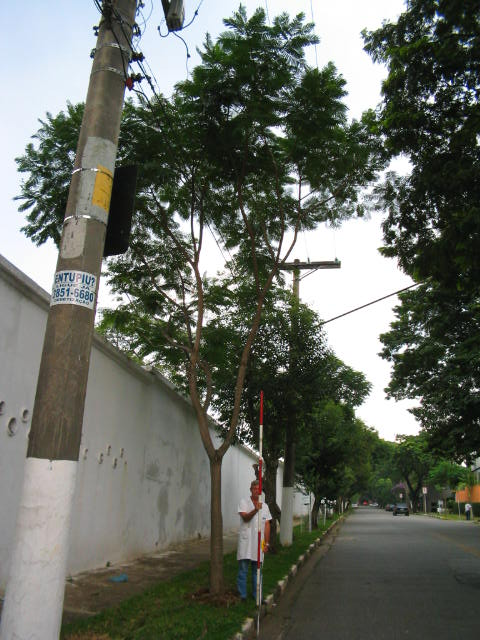crown: (18, 7, 378, 327)
stem: (187, 456, 237, 596)
stick: (247, 388, 274, 608)
tree: (14, 5, 378, 598)
